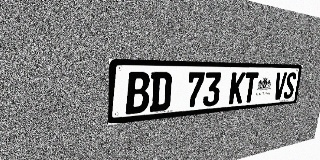3: (202, 72, 222, 107)
7: (185, 72, 205, 109)
B: (126, 72, 150, 114)
D: (149, 72, 172, 112)
K: (228, 72, 246, 104)
S: (283, 72, 297, 99)
T: (242, 72, 259, 103)
V: (273, 72, 287, 100)
